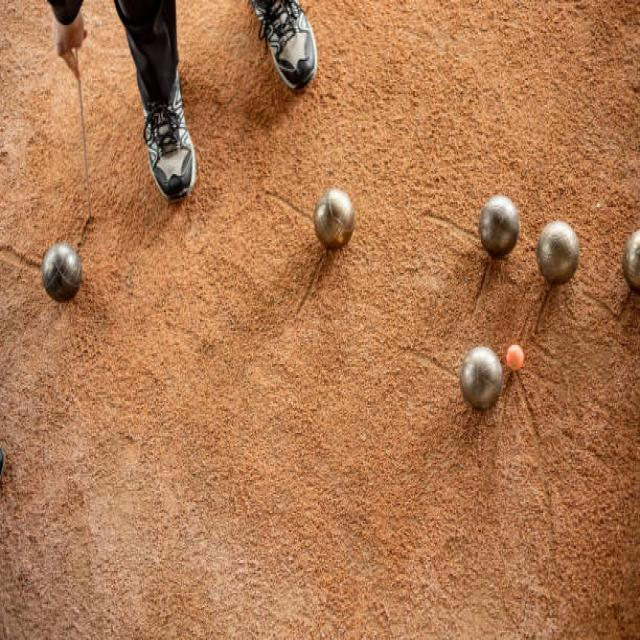hatball: (504, 339, 529, 377)
petanque: (308, 182, 363, 256), (473, 187, 527, 262), (533, 217, 584, 293), (36, 236, 90, 305), (456, 344, 504, 409), (618, 222, 639, 294)
